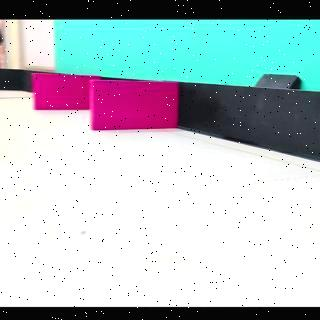xparking: (92, 82, 178, 132), (36, 76, 88, 110)
